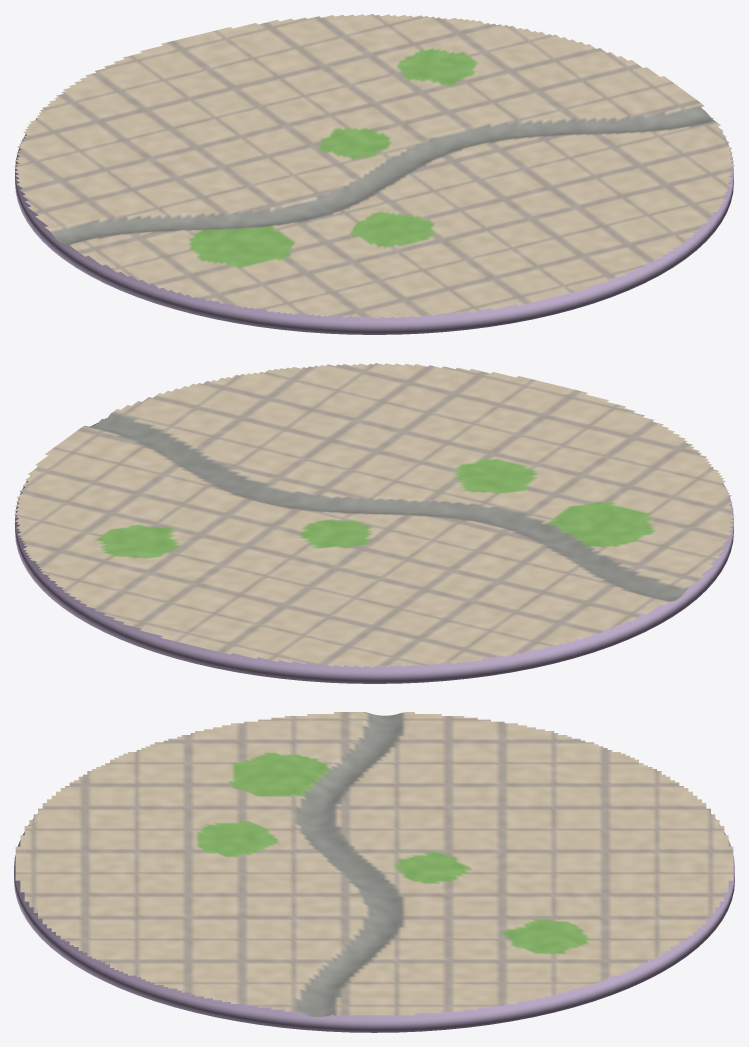
The model's file is ground.glb.
3 views of the same model, one above another, from view 1: azimuth 30°, elevation 25°; view 2: azimuth 150°, elevation 25°; view 3: azimuth 270°, elevation 25° (orthographic).
Parts seen in each view (by area): view 1: Ground, Rim; view 2: Ground, Rim; view 3: Ground, Rim.
Boxes of the visible parts, x1,y1,x2,y2 form: Ground: (14, 14, 734, 318); Rim: (15, 107, 733, 334); Ground: (14, 363, 734, 667); Rim: (15, 418, 733, 683); Ground: (15, 712, 733, 1016); Rim: (14, 814, 734, 1032).
Size of the model in its own units: 125 by 3.2 by 125.
